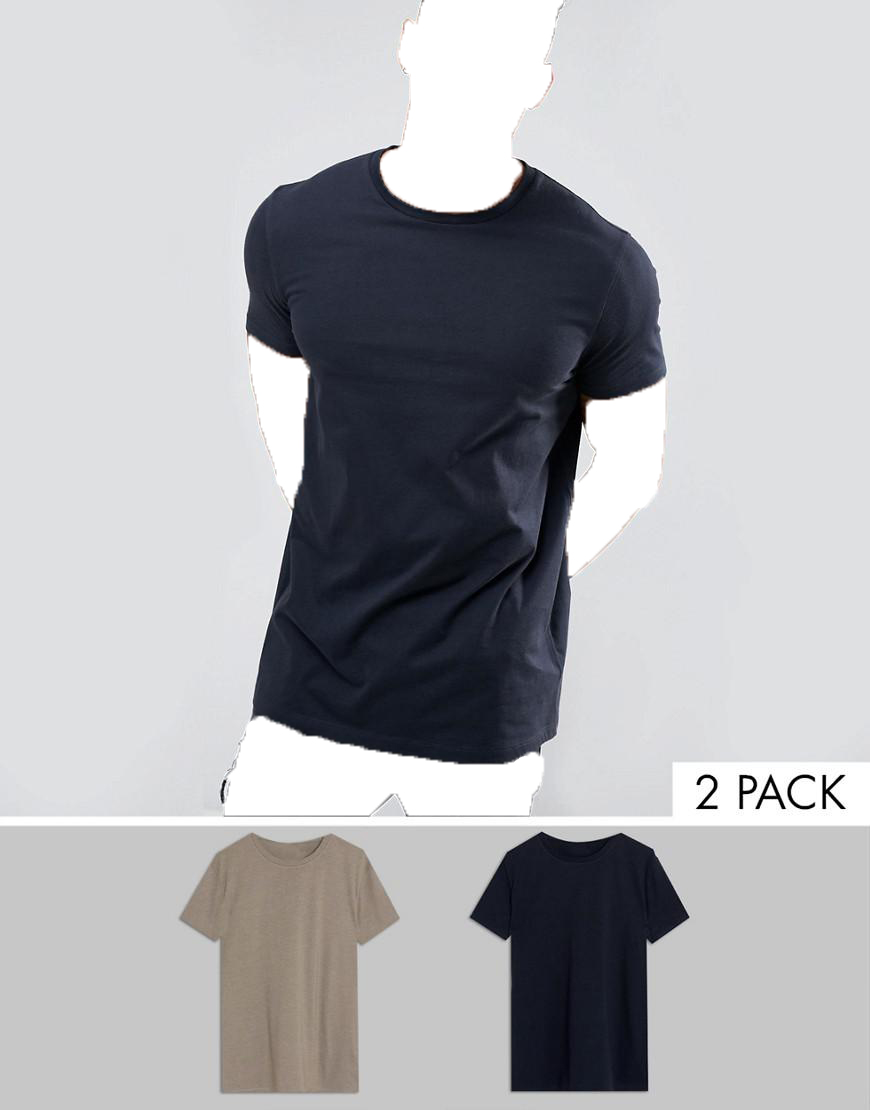teeshirt: (235, 149, 671, 769), (178, 835, 401, 1107), (469, 834, 695, 1100)
